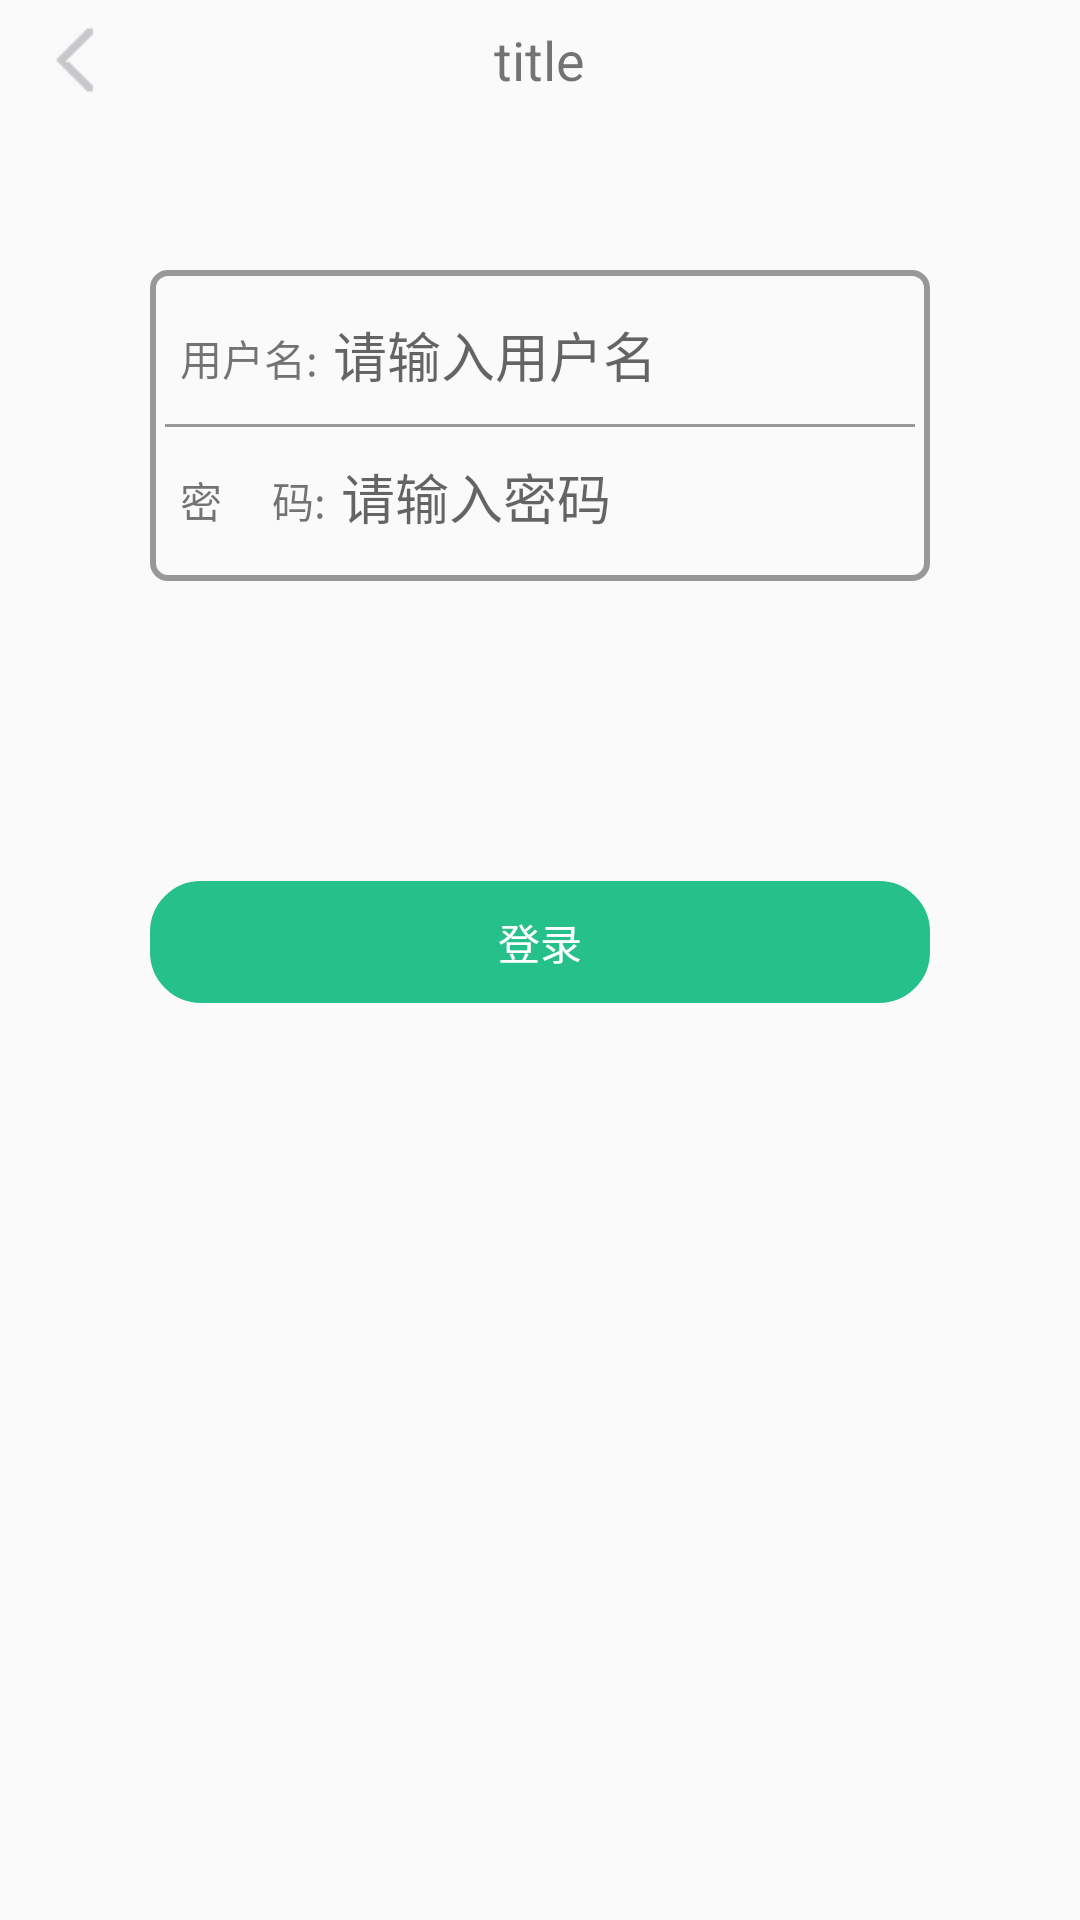

Where icons sit on this 1080 x 1920 app screen, as (x1, y1, x2, y2):
arrow left hui: (57, 28, 93, 92)
